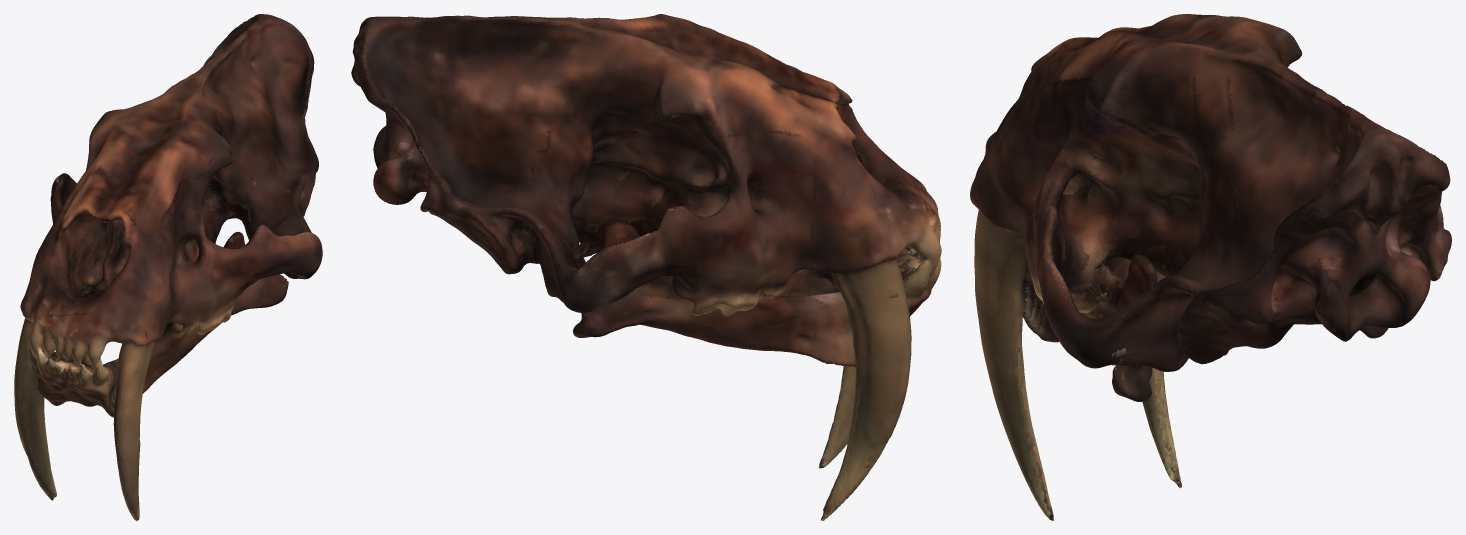
File: saber-tooth-cat.glb
The picture shows the model from 3 angles, left to right: view 1: azimuth 30°, elevation 25°; view 2: azimuth 150°, elevation 25°; view 3: azimuth 270°, elevation 25°; orthographic projection. The views are drawn at different scales.
Visible parts, largest first — view 1: Object_2; view 2: Object_2; view 3: Object_2.
Part boxes in pixels (<box>): Object_2: <box>14,14,322,520</box>; Object_2: <box>351,14,941,520</box>; Object_2: <box>970,14,1451,520</box>.
Size of the model in its own units: 291 by 283 by 217.
Materials: 1 (1 with a texture image).
